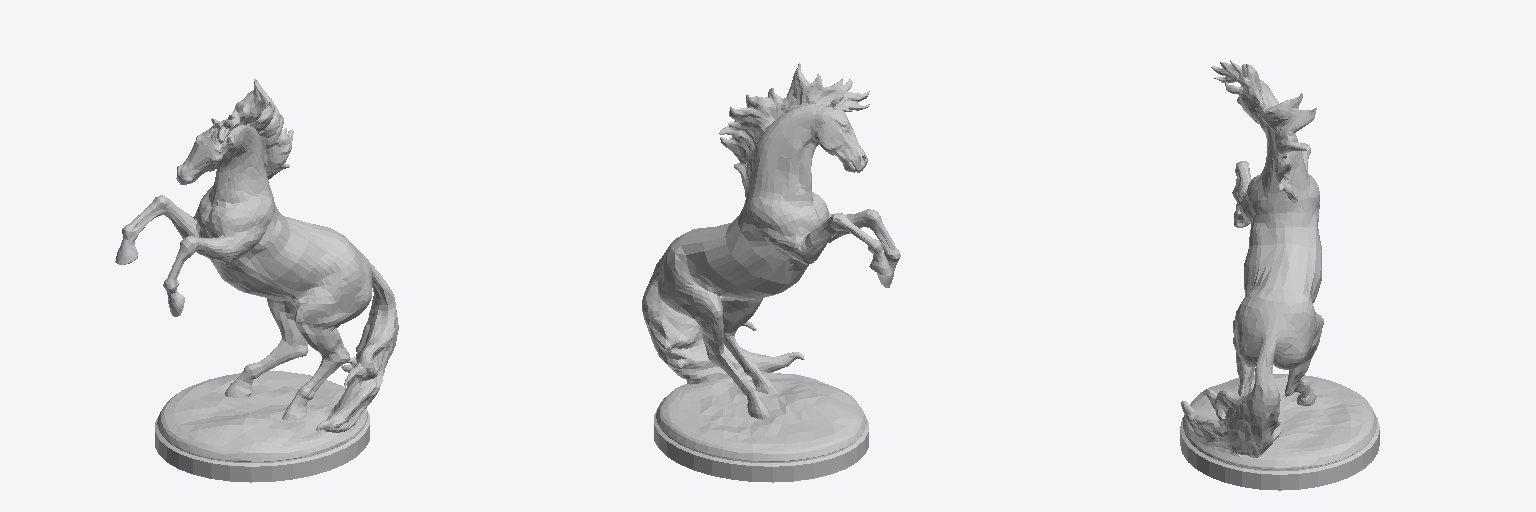
File: full_horse_statue_01_1k_LOD_1.obj
The picture shows the model from 3 angles: view 1: azimuth 30°, elevation 25°; view 2: azimuth 150°, elevation 25°; view 3: azimuth 270°, elevation 25°; orthographic projection.
Parts seen in each view (by area): view 1: "horse_statue_01_1k_LOD_1"; view 2: "horse_statue_01_1k_LOD_1"; view 3: "horse_statue_01_1k_LOD_1".
Part boxes in pixels (x1,y1,x2,y2): "horse_statue_01_1k_LOD_1": (115, 79, 398, 482); "horse_statue_01_1k_LOD_1": (642, 63, 900, 482); "horse_statue_01_1k_LOD_1": (1180, 60, 1379, 490).
Bounding box in the file's own units: 0.1639 × 0.22 × 0.1078.